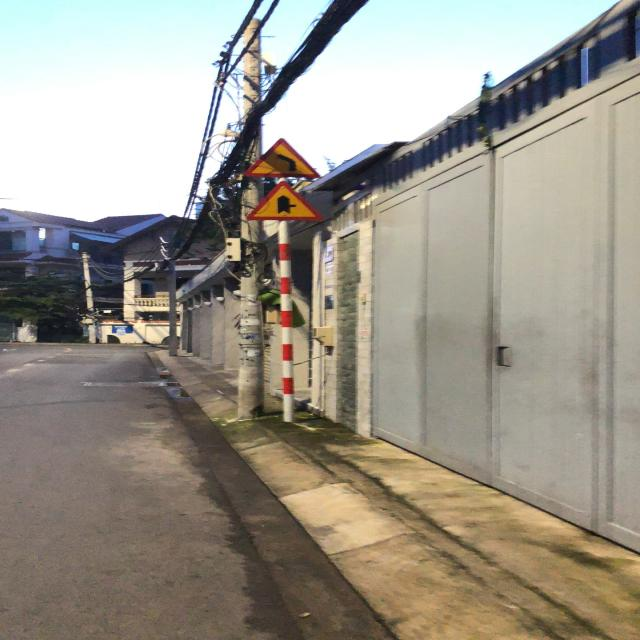Bien bao cho ngoat nguy hiem: (237, 134, 317, 176)
Bien bao giao nhau voi duong khong uu tien: (238, 177, 334, 222)
